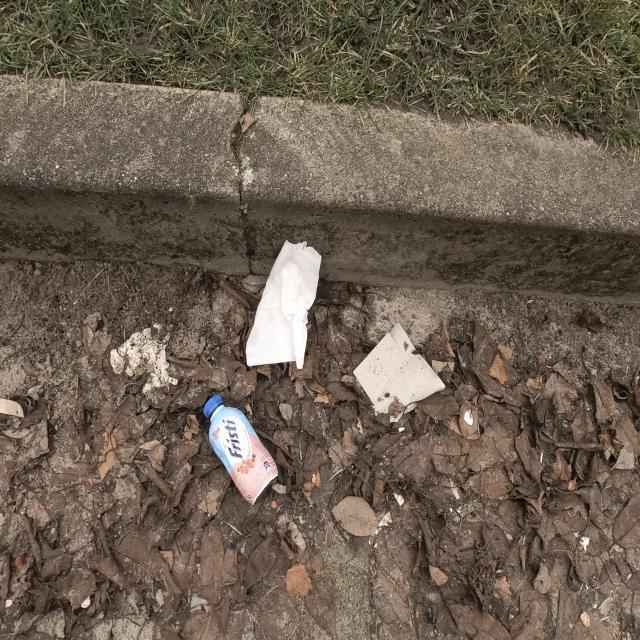Paper: (245, 238, 323, 370), (353, 320, 447, 423)
